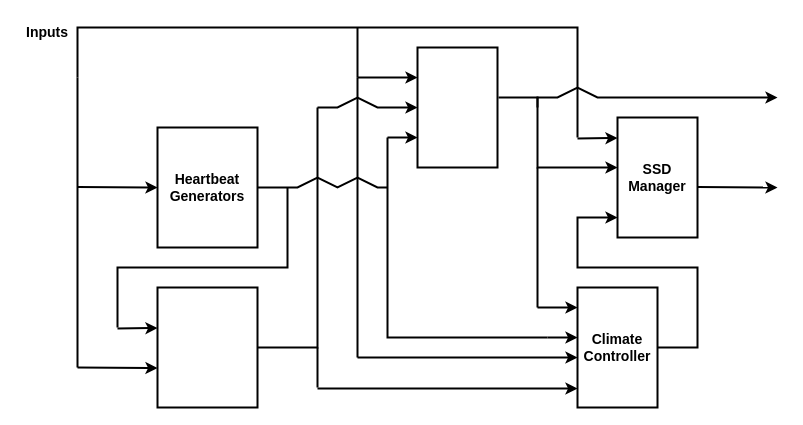
Some shapes in this 803 by 425 pixel diagram are drawn without their labels. The shapes that lost their labels are listed below. From the top down, each one's centre as x and y in pixels, then its label:
(457,107): Door Access Controller
(207,347): Debouncers and SPOTs
